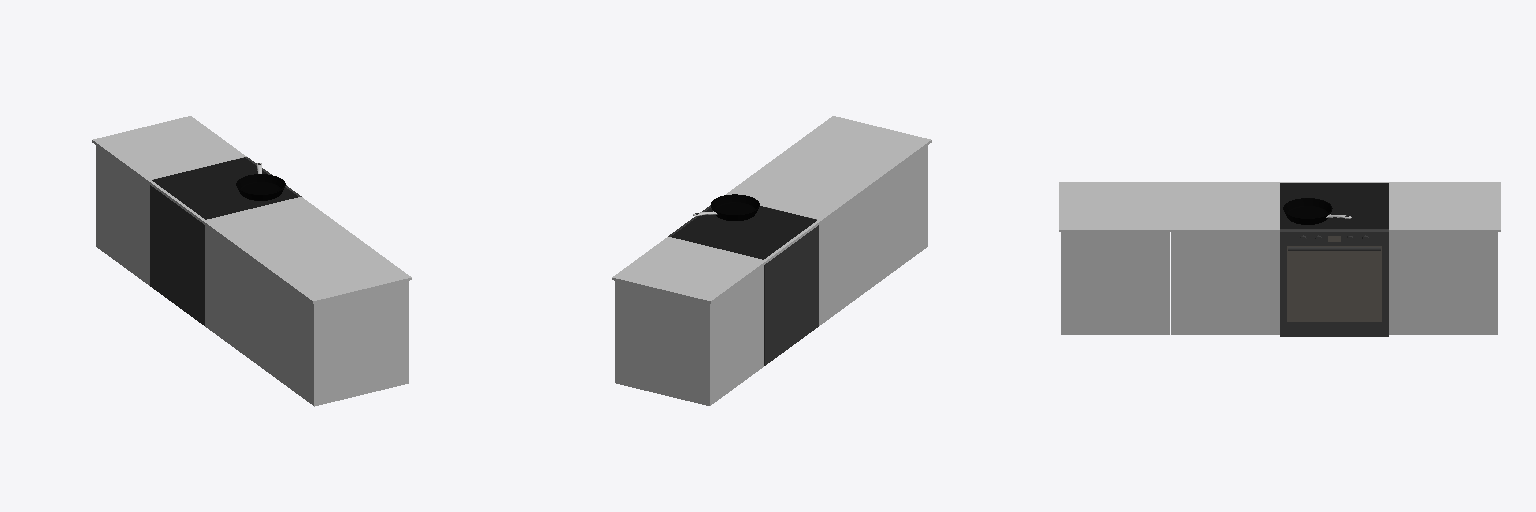
The model's file is Pfanne.obj.
3 renders of one model, left to right at view 1: azimuth 30°, elevation 25°; view 2: azimuth 150°, elevation 25°; view 3: azimuth 270°, elevation 25°, orthographic.
Visible parts, largest first — view 1: Cube.010_Cube.011, Cube.012_Cube.013, Cube.001, Cube.009_Cube.010, Cube.013_Cube.014, Cube.011_Cube.012, Cube, Torus; view 2: Cube.011_Cube.012, Cube.012_Cube.013, Cube.013_Cube.014, Cube.001, Cube.009_Cube.010, Cube.010_Cube.011, Cube, Torus; view 3: Cube.009_Cube.010, Cube.010_Cube.011, Cube.011_Cube.012, Cube.012_Cube.013, Cube.003_Cube.004, Cube.013_Cube.014, Cube.002, Cube, Torus.
Part boxes in pixels (x1,y1,x2,y2): Cube.010_Cube.011: (260, 266, 408, 406); Cube.012_Cube.013: (148, 180, 411, 303); Cube.001: (150, 185, 204, 325); Cube.009_Cube.010: (205, 225, 259, 365); Cube.013_Cube.014: (92, 116, 246, 182); Cube.011_Cube.012: (96, 146, 149, 285); Cube: (152, 157, 297, 219); Torus: (236, 163, 285, 200); Cube.011_Cube.012: (615, 266, 763, 405); Cube.012_Cube.013: (726, 116, 931, 262); Cube.013_Cube.014: (612, 237, 766, 303); Cube.001: (764, 225, 818, 365); Cube.009_Cube.010: (819, 185, 873, 325); Cube.010_Cube.011: (874, 146, 927, 285); Cube: (671, 206, 816, 259); Torus: (693, 194, 759, 220); Cube.009_Cube.010: (1171, 232, 1279, 334); Cube.010_Cube.011: (1061, 232, 1169, 334); Cube.011_Cube.012: (1389, 232, 1497, 334); Cube.012_Cube.013: (1059, 182, 1388, 231); Cube.003_Cube.004: (1287, 246, 1381, 321); Cube.013_Cube.014: (1389, 182, 1500, 231); Cube.002: (1280, 229, 1388, 336); Cube: (1280, 183, 1388, 228); Torus: (1283, 198, 1351, 224).
Bounding box in the file's own units: 24.87 × 25.9 × 89.22.